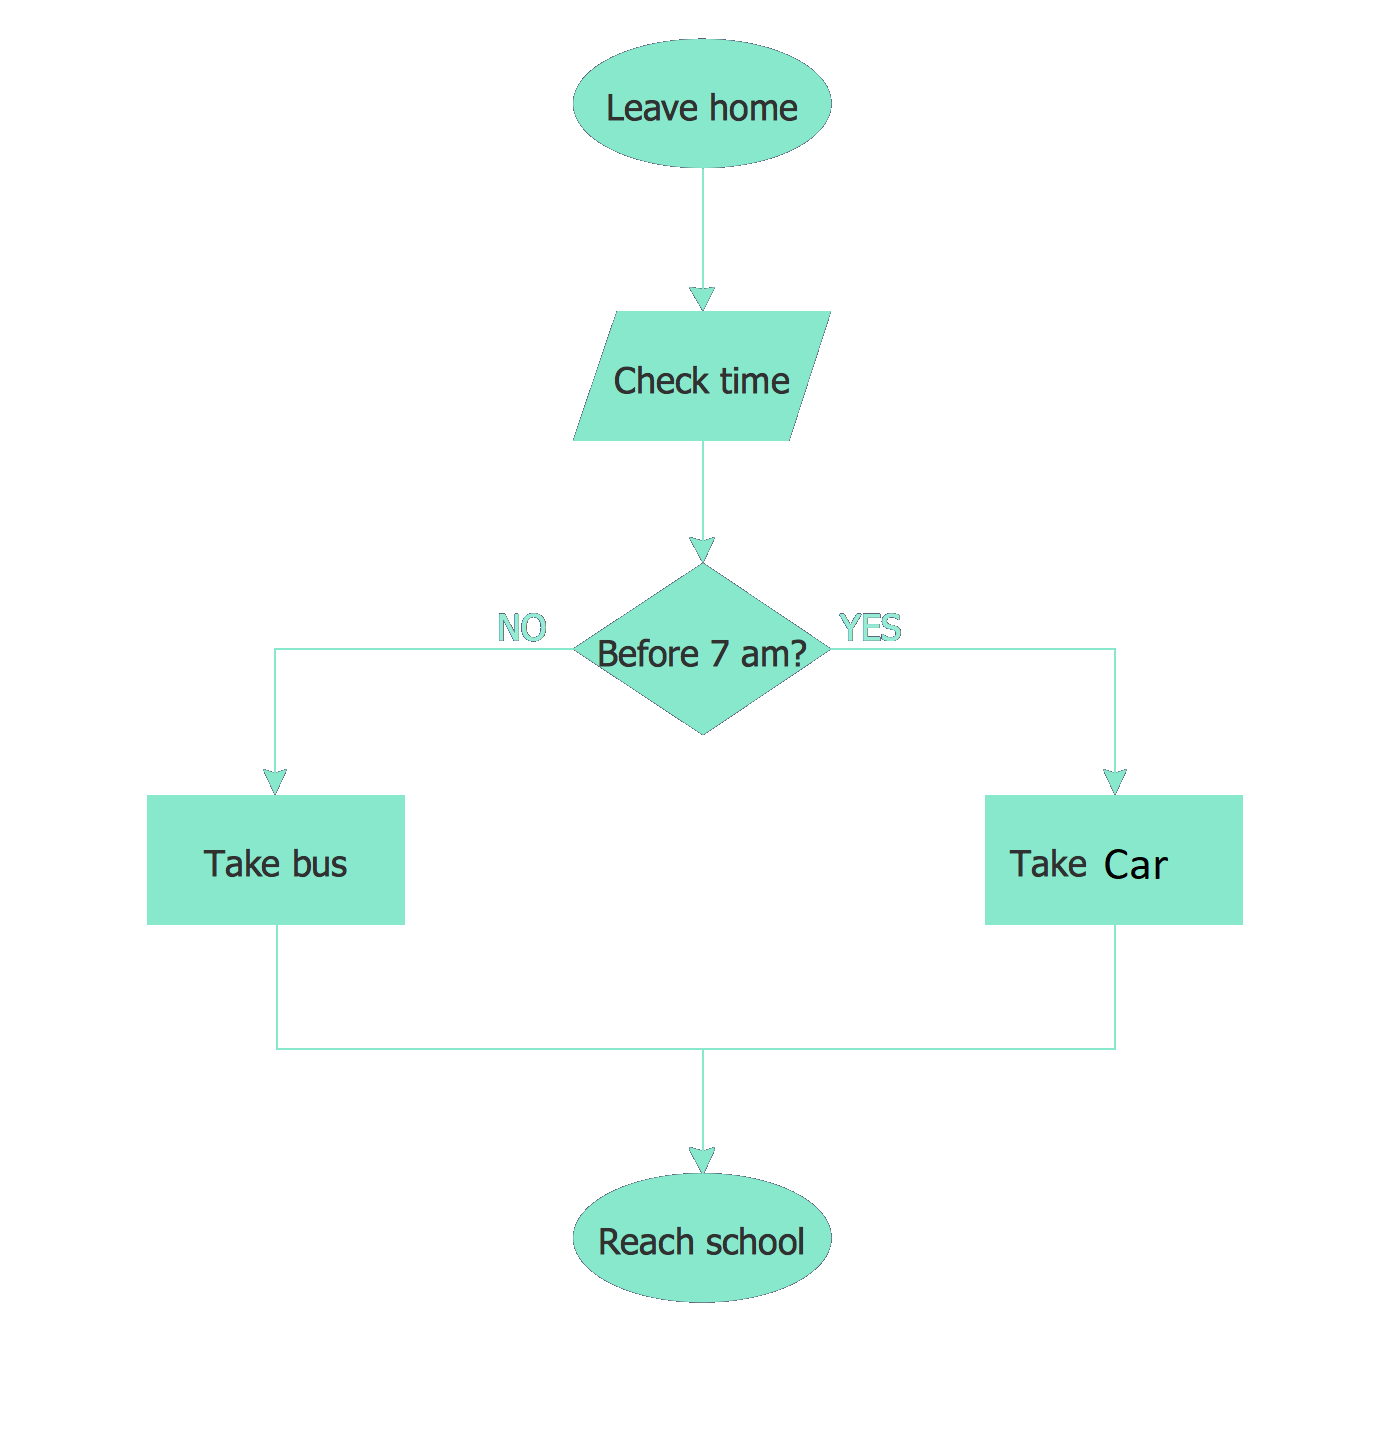arrow: (269, 924, 725, 1174), (682, 922, 1125, 1178), (260, 639, 582, 803), (817, 639, 1133, 800), (684, 163, 721, 313), (684, 444, 723, 571)
data: (564, 306, 836, 453)
decision: (567, 555, 845, 741)
process: (139, 787, 414, 933), (977, 785, 1251, 928)
terminator: (567, 1165, 838, 1312), (570, 33, 843, 174)
text: (590, 1224, 812, 1262), (590, 635, 808, 672), (608, 355, 793, 397), (604, 87, 808, 124), (1004, 841, 1175, 883), (201, 841, 357, 881), (834, 605, 906, 646), (487, 603, 549, 647)
